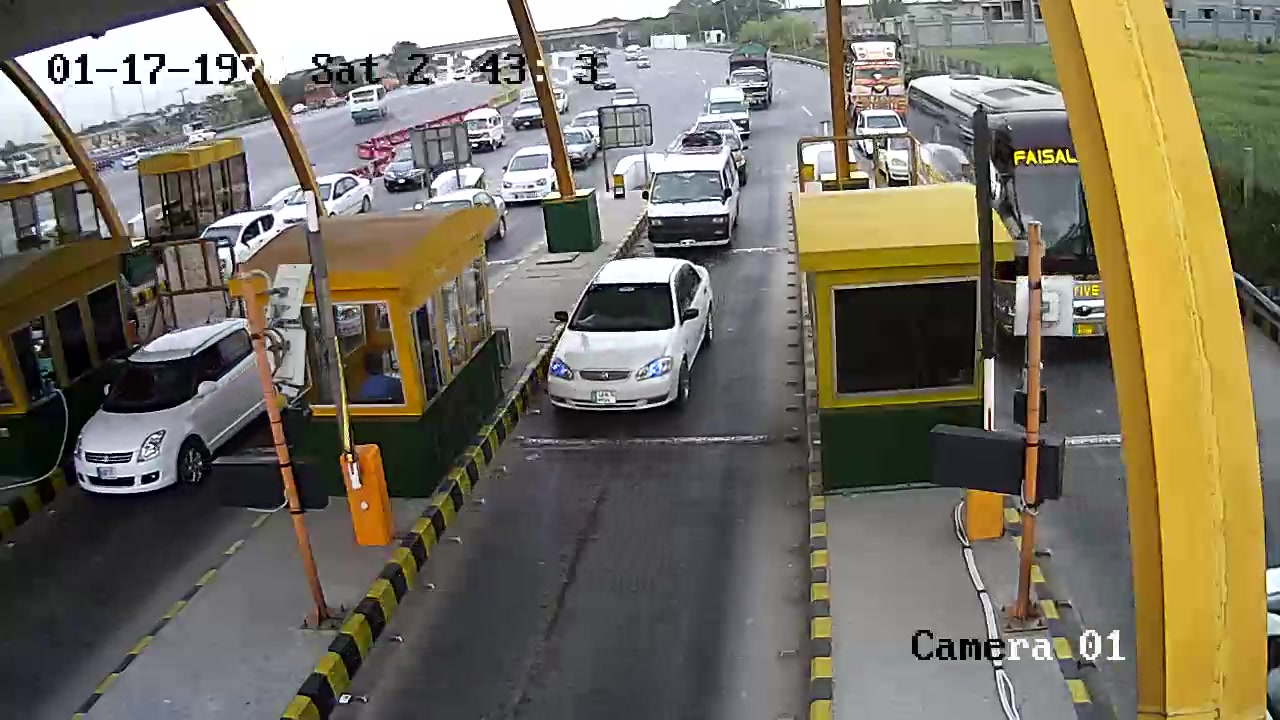F1: (538, 251, 733, 432)
